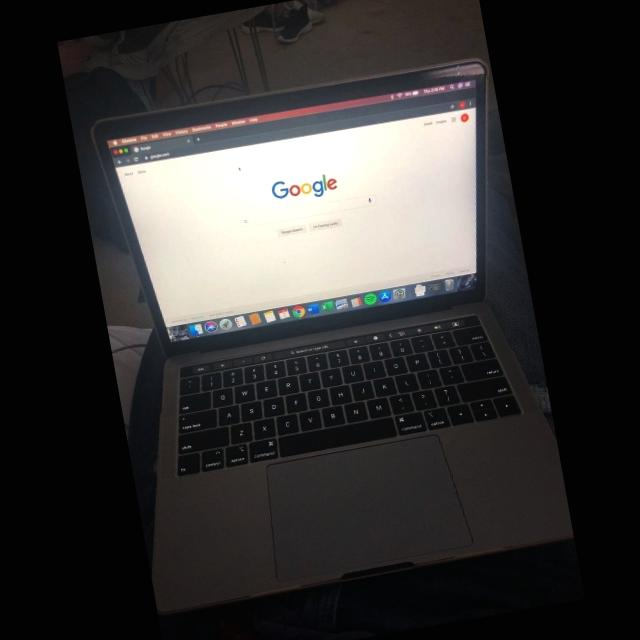laptop: (91, 59, 572, 614)
